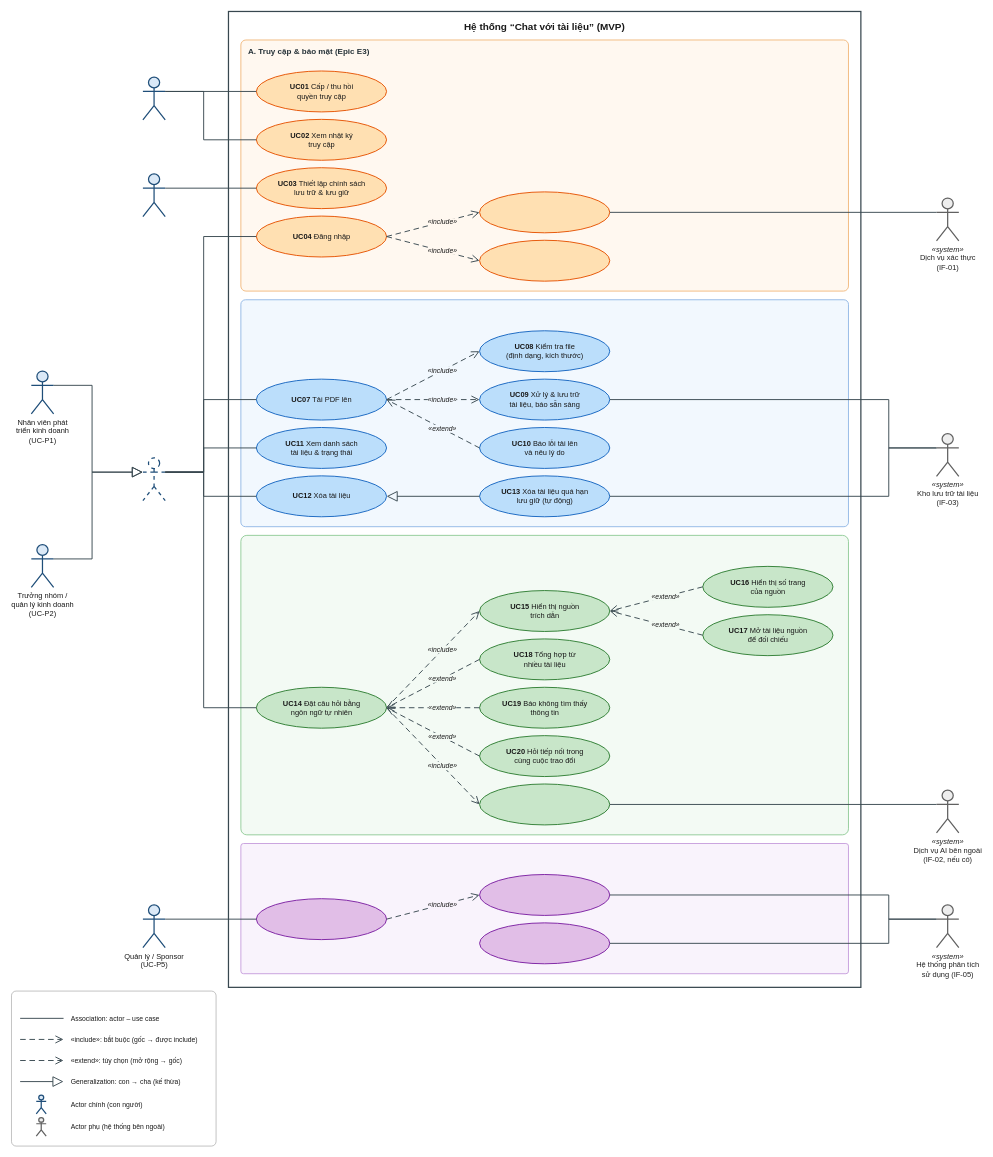
Image size: 993x1157. Some labels were removed from this diagram. Each missing label, with the box of its shape:
B. Quản lý tài liệu (Epic E1): (240, 299, 849, 527)
C. Hỏi đáp trên tài liệu (Epic E2): (240, 535, 849, 835)
Chú giải: (11, 990, 216, 1146)
D. Đo lường & vận hành (Epic E4): (240, 843, 849, 974)
Người dùng kinh doanh (actor trừu tượng): (142, 457, 166, 501)
Quản trị viên (UC-P3): (142, 76, 166, 120)
UC05 Xác thực danh tính: (479, 191, 610, 233)
UC06 Kiểm tra quyền truy cập: (479, 240, 610, 281)
UC21 Truy xuất nội dung & sinh câu trả lời: (479, 783, 610, 825)
UC22 Xem số liệu sử dụng & hiệu quả MVP: (256, 898, 387, 940)
UC23 Tổng hợp chỉ số MET-001…003: (479, 874, 610, 916)
UC24 Ghi nhận sự kiện sử dụng: (479, 922, 610, 964)
Đại diện CNTT / bảo mật (UC-P4): (142, 173, 166, 217)
